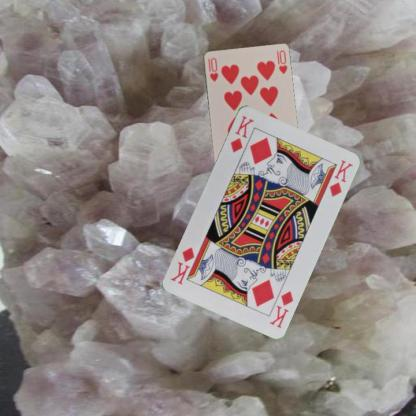10h: (206, 55, 219, 83)
Kd: (266, 288, 295, 329), (227, 112, 255, 154)
